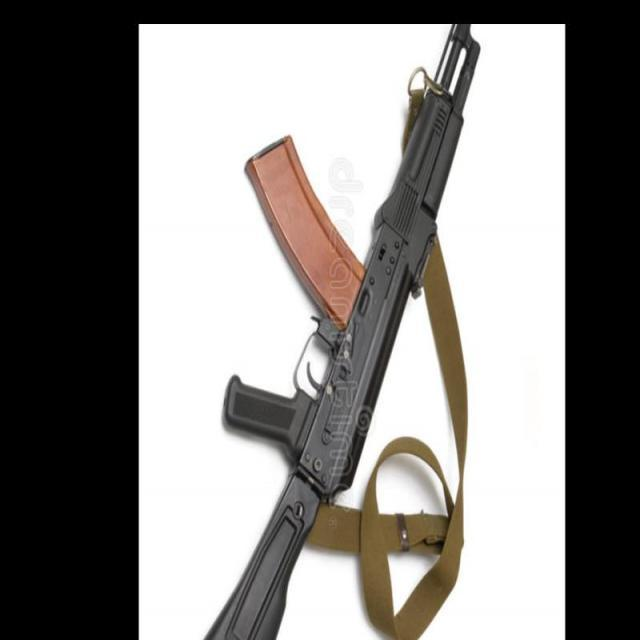weapon: (207, 25, 480, 640)
